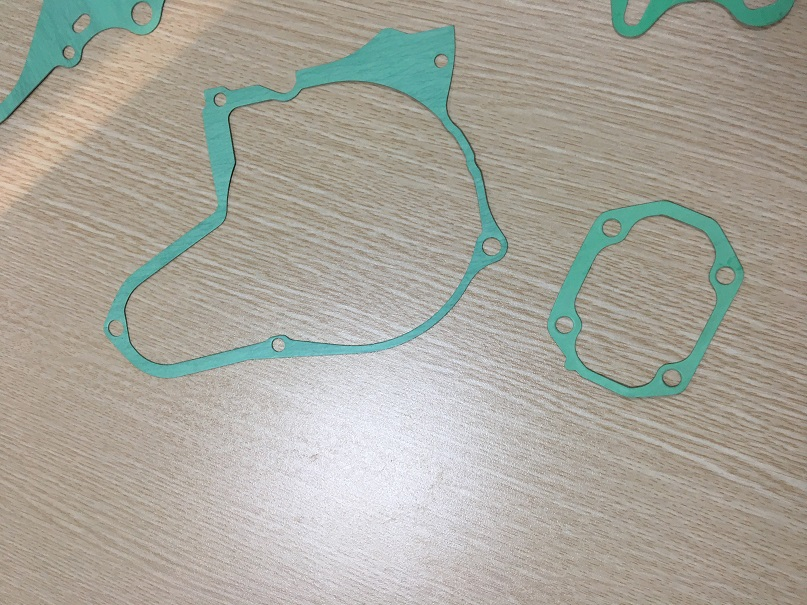type1: (100, 22, 520, 376)
type2: (538, 199, 760, 404)
